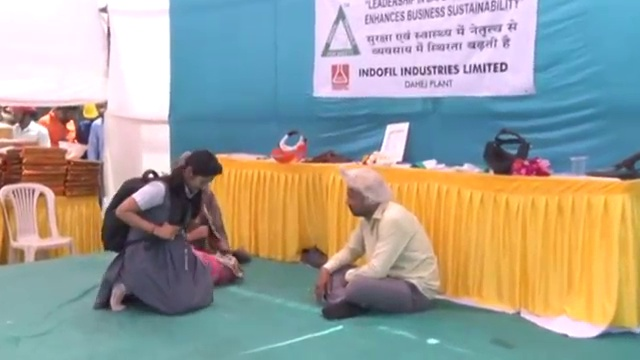helmet: (57, 141, 88, 160), (82, 103, 99, 120), (11, 105, 37, 114)
helmet_off: (336, 169, 390, 224), (169, 150, 220, 200), (52, 106, 78, 125), (95, 101, 107, 116)
helmet_on: (10, 104, 37, 126), (82, 103, 101, 124)
person: (93, 149, 220, 313), (312, 170, 443, 320), (182, 189, 251, 288), (38, 105, 78, 146), (10, 103, 49, 145), (86, 101, 107, 161), (75, 103, 101, 144)
